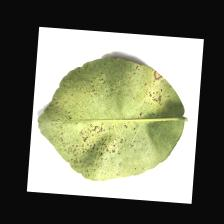canker: (64, 99, 117, 179)
